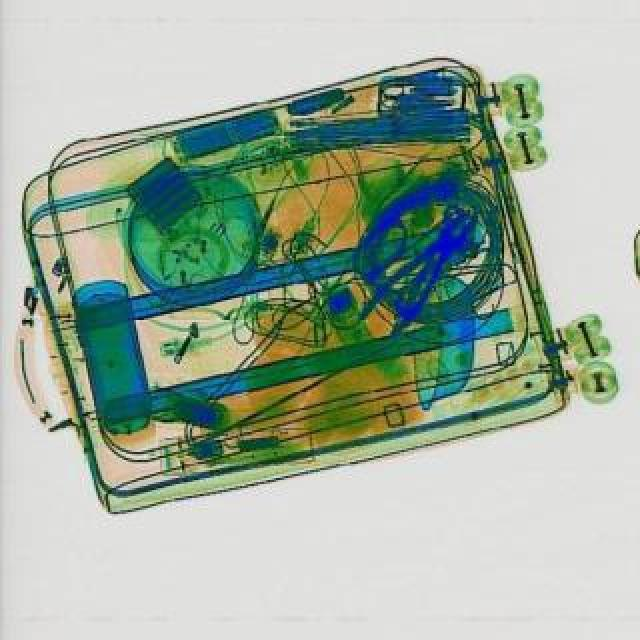wrench: (354, 196, 490, 340)
